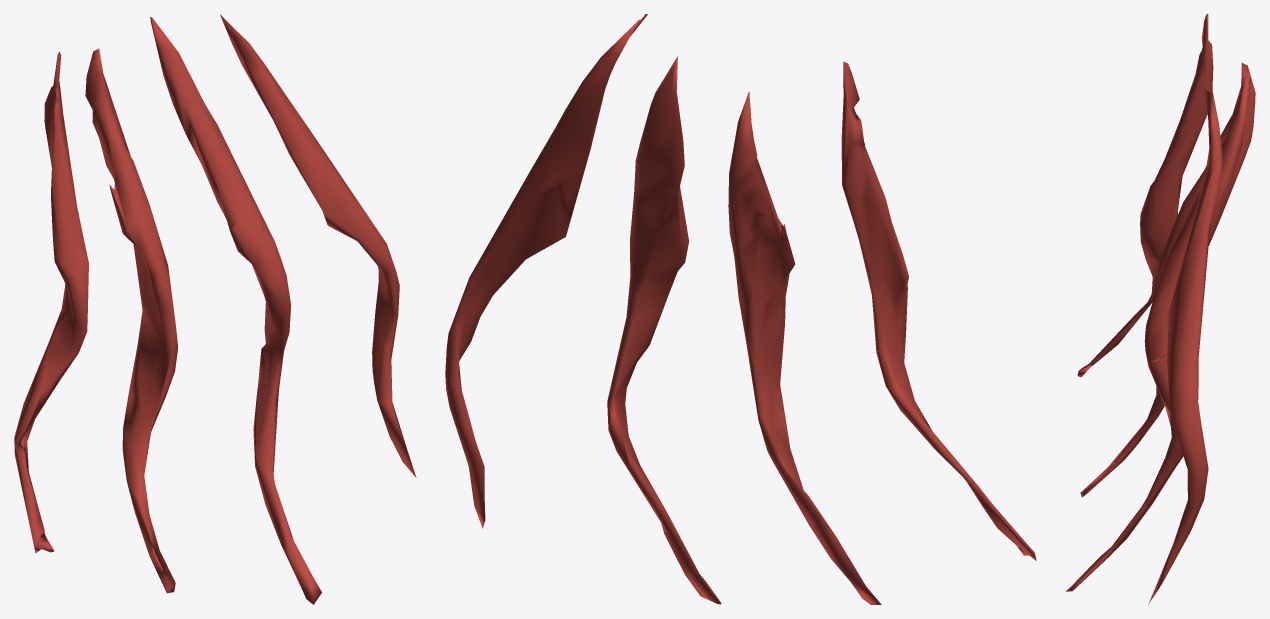
File: musculos-lumbrical-muscles-of-hand-l.glb
The picture shows the model from 3 angles, left to right: view 1: azimuth 30°, elevation 25°; view 2: azimuth 150°, elevation 25°; view 3: azimuth 270°, elevation 25°; orthographic projection. The views are drawn at different scales.
Visible parts, largest first — view 1: Lumbrical muscles of hand.l; view 2: Lumbrical muscles of hand.l; view 3: Lumbrical muscles of hand.l.
Boxes of the visible parts, x1=… form: Lumbrical muscles of hand.l: x1=14, y1=14, x2=416, y2=604; Lumbrical muscles of hand.l: x1=445, y1=14, x2=1036, y2=604; Lumbrical muscles of hand.l: x1=1066, y1=14, x2=1255, y2=603.
Bounding box in the file's own units: 0.0754 × 0.0927 × 0.0321.
